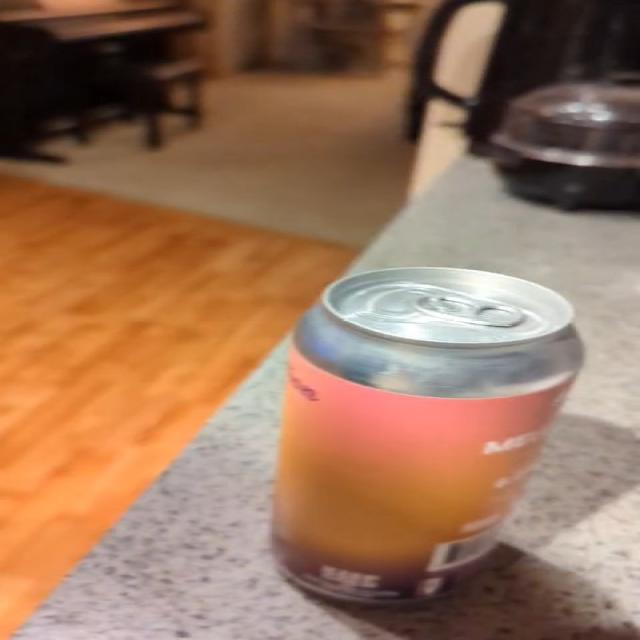metal: (274, 268, 583, 602)
